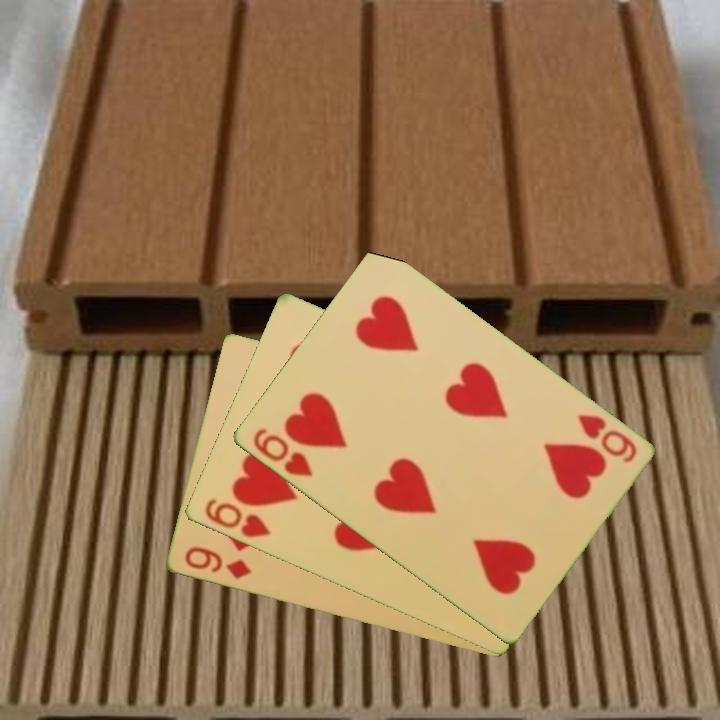6h: (248, 424, 316, 480), (573, 410, 640, 466), (200, 495, 273, 541)
9d: (180, 543, 254, 583)
